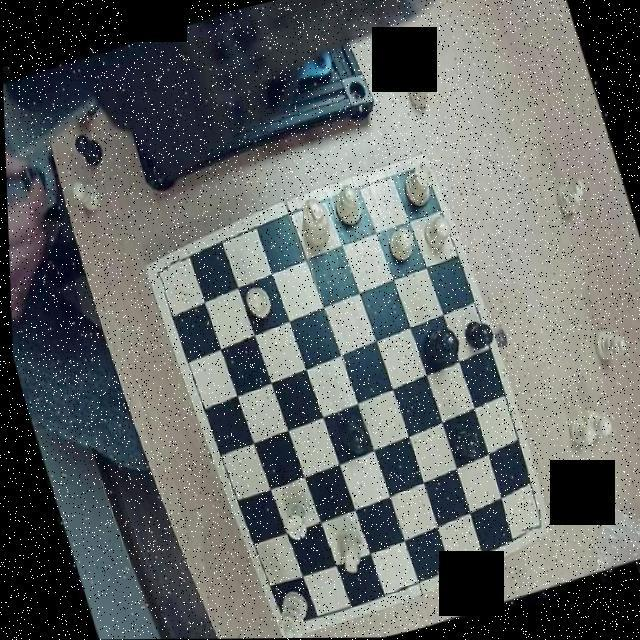chess-table-corners: (146, 255, 186, 294), (396, 155, 434, 191), (268, 601, 304, 635), (512, 504, 544, 539)
